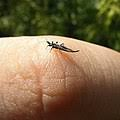Phlaeothripidae: (43, 39, 82, 55)
